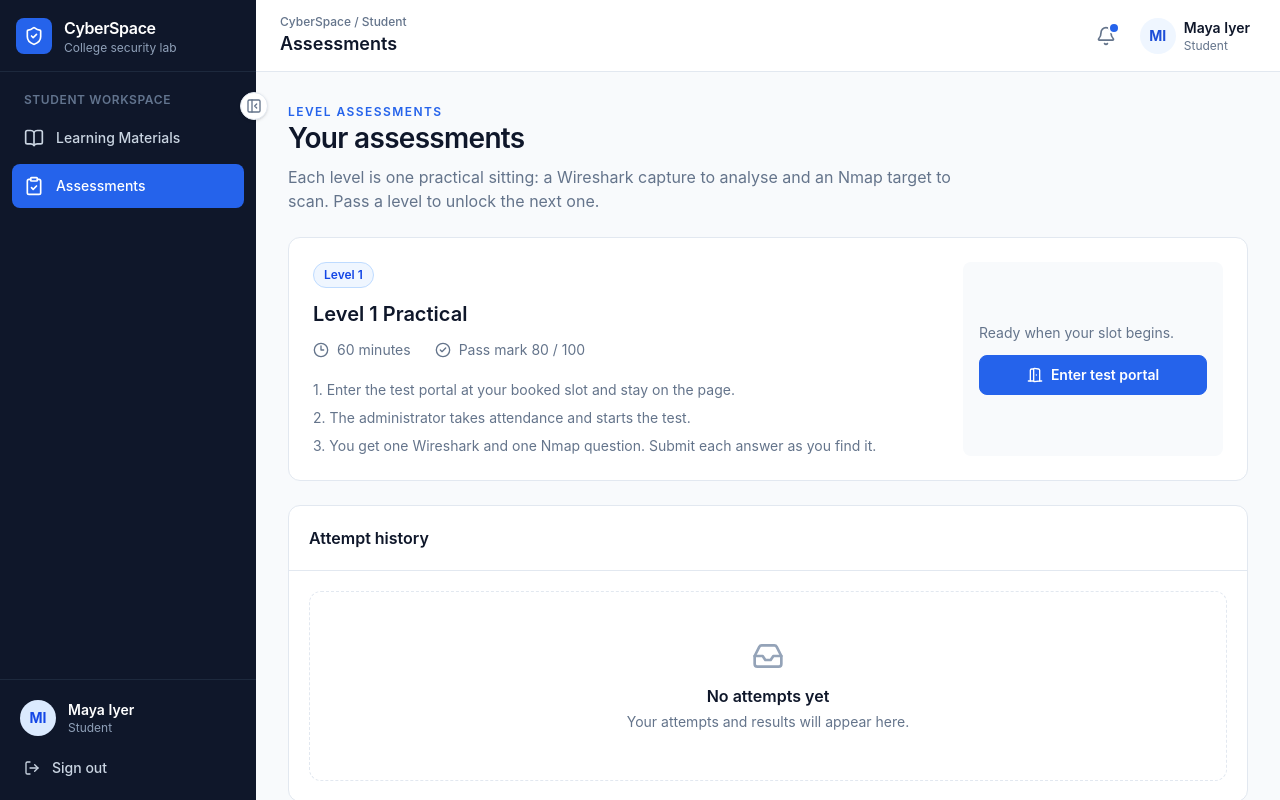
student assessment flow › lets an eligible student enter the test portal
This screenshot has width=1280, height=800.
Click the button "Enter test portal".
click(1093, 375)  # box [979, 355, 1207, 395]
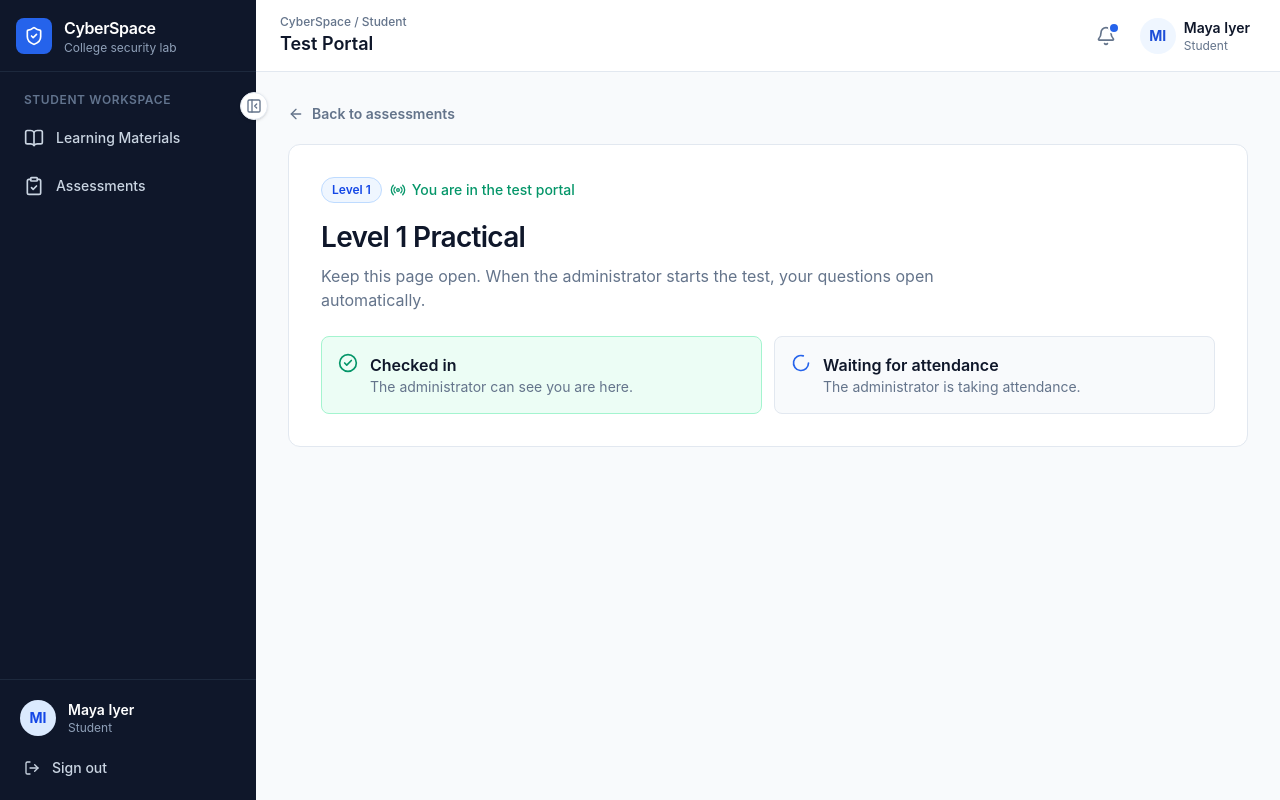
Result: the text "You are in the test portal" is shown at [390, 180, 575, 200]
Result: the text "Waiting for attendance" is shown at [823, 355, 999, 375]
